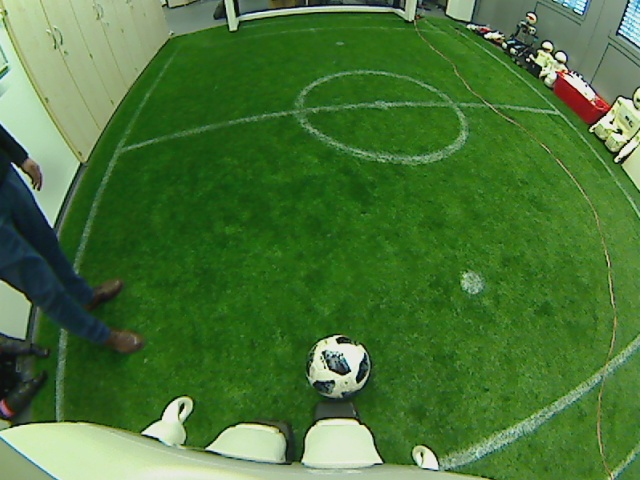ball: (302, 332, 374, 402)
